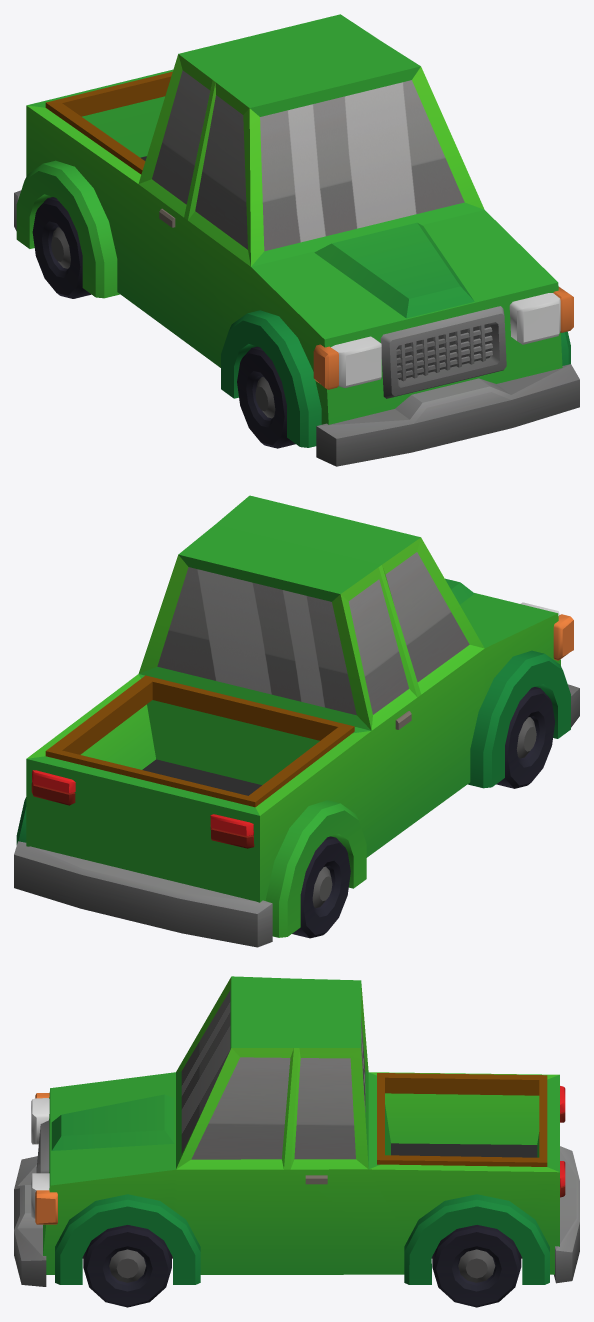
Rendered from PickUp_2.fbx.
The picture shows the model from 3 angles, top to bottom: view 1: azimuth 30°, elevation 25°; view 2: azimuth 150°, elevation 25°; view 3: azimuth 270°, elevation 25°; orthographic projection. The views are drawn at different scales.
Visible parts, largest first — view 1: PickUp_2, BWhel_BR, BWhel_FR; view 2: PickUp_2, BWhel_BR, BWhel_FR; view 3: PickUp_2, BWhel_BL, BWhel_FL.
Boxes of the visible parts, left/top/right/bottom form: PickUp_2: left=14, top=14, right=579, bottom=466; BWhel_BR: left=32, top=197, right=91, bottom=298; BWhel_FR: left=237, top=346, right=295, bottom=448; PickUp_2: left=14, top=495, right=579, bottom=947; BWhel_BR: left=292, top=836, right=350, bottom=938; BWhel_FR: left=496, top=687, right=554, bottom=788; PickUp_2: left=14, top=976, right=579, bottom=1286; BWhel_BL: left=432, top=1225, right=521, bottom=1307; BWhel_FL: left=83, top=1225, right=171, bottom=1307.
Size of the model in its own units: 1.09 by 1.08 by 2.3.
